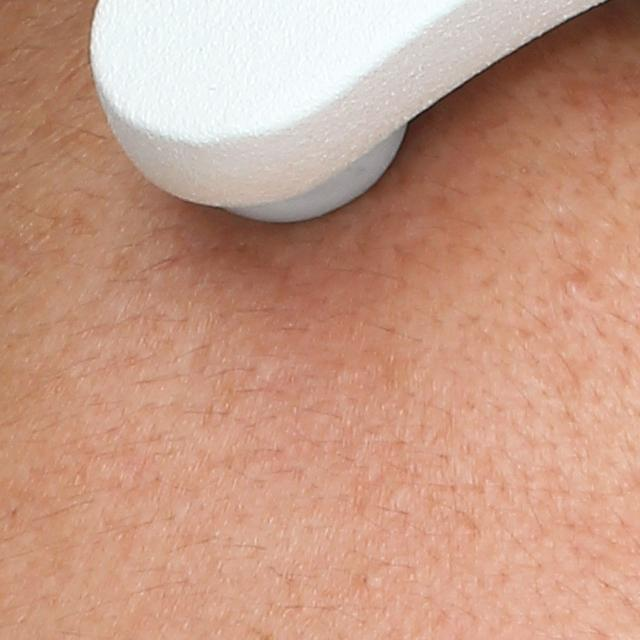comedo: (349, 568, 387, 594), (556, 273, 585, 293)
